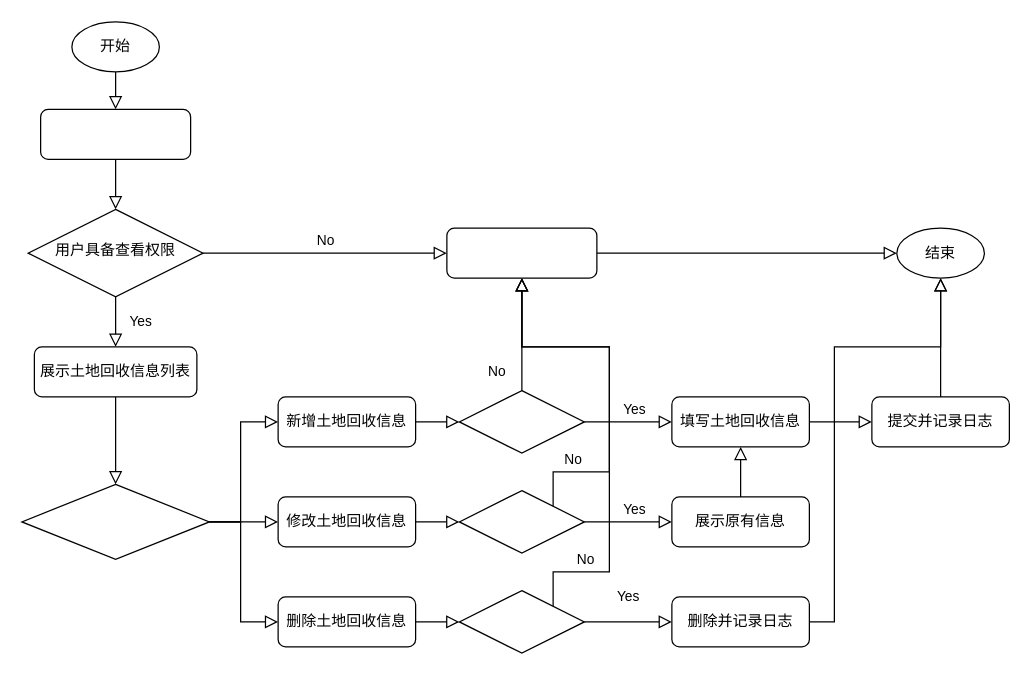
Some shapes in this 1031 by 675 pixel diagram are drawn without their labels. Each missing label, with the box of its shape:
具备修改权限: (458, 489, 584, 553)
具备删除权限: (458, 589, 584, 653)
具备新增权限: (458, 389, 584, 453)
土地回收信息管理: (39, 108, 191, 159)
拒绝操作: (446, 227, 597, 278)
用户进行操作: (21, 483, 209, 559)
